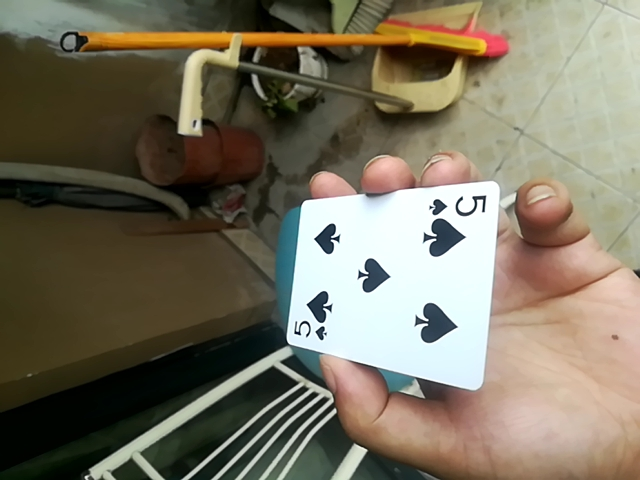ht 5: (273, 181, 508, 394)
